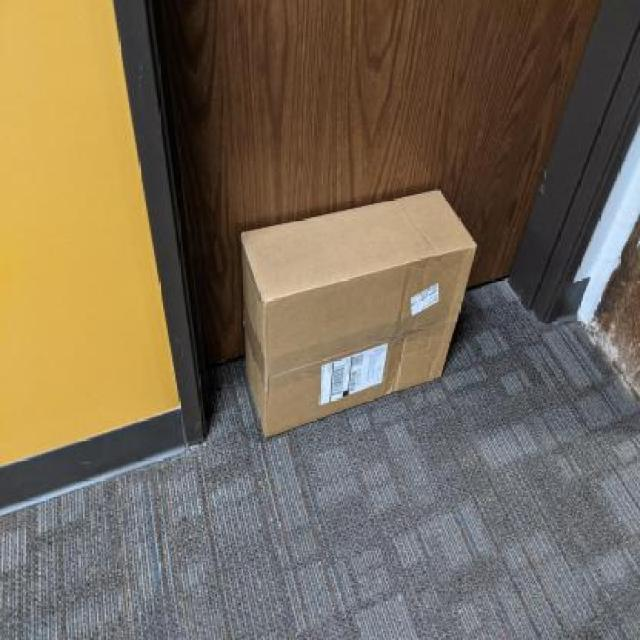cardboxes: (235, 181, 482, 442)
